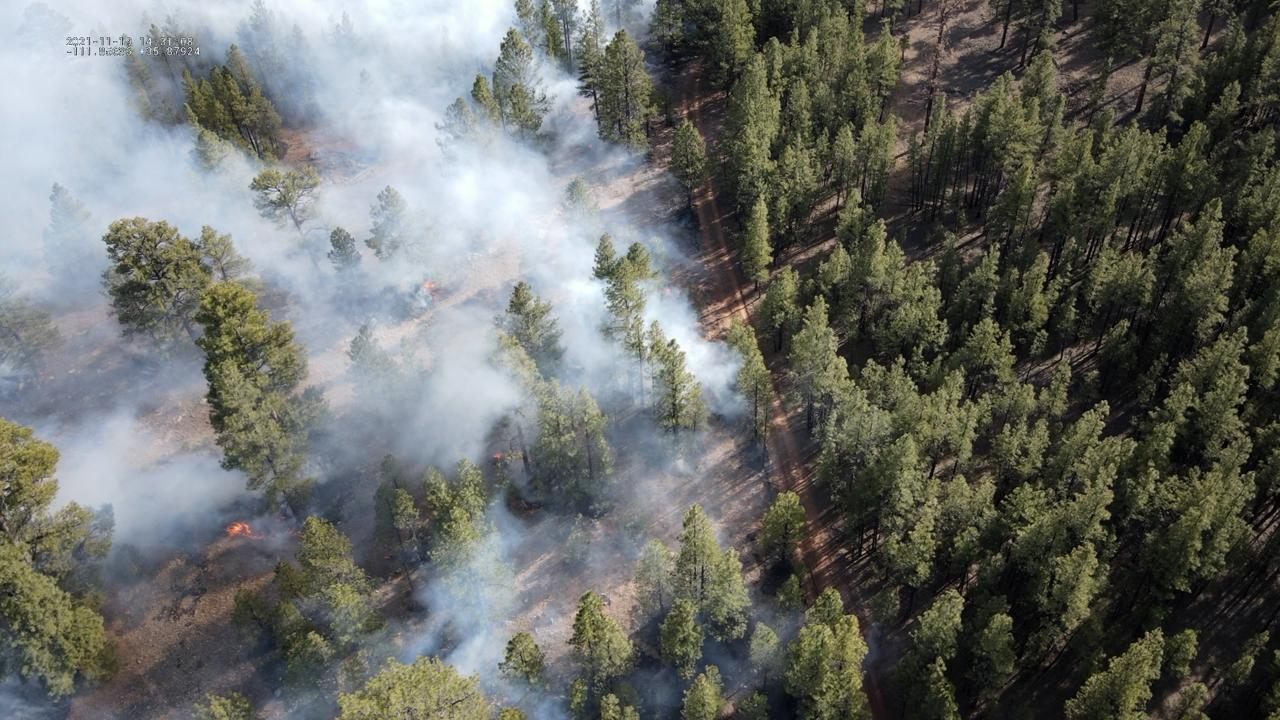fire: (224, 520, 267, 547), (420, 279, 437, 290), (491, 449, 505, 460)
smoke: (1, 0, 763, 720)
